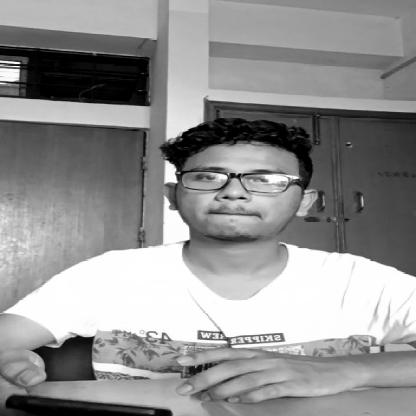Normal: (171, 126, 317, 244)
